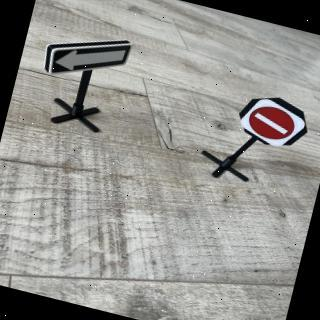sign_noentry: (237, 94, 312, 154)
sign_oneway_left: (40, 23, 134, 94)
